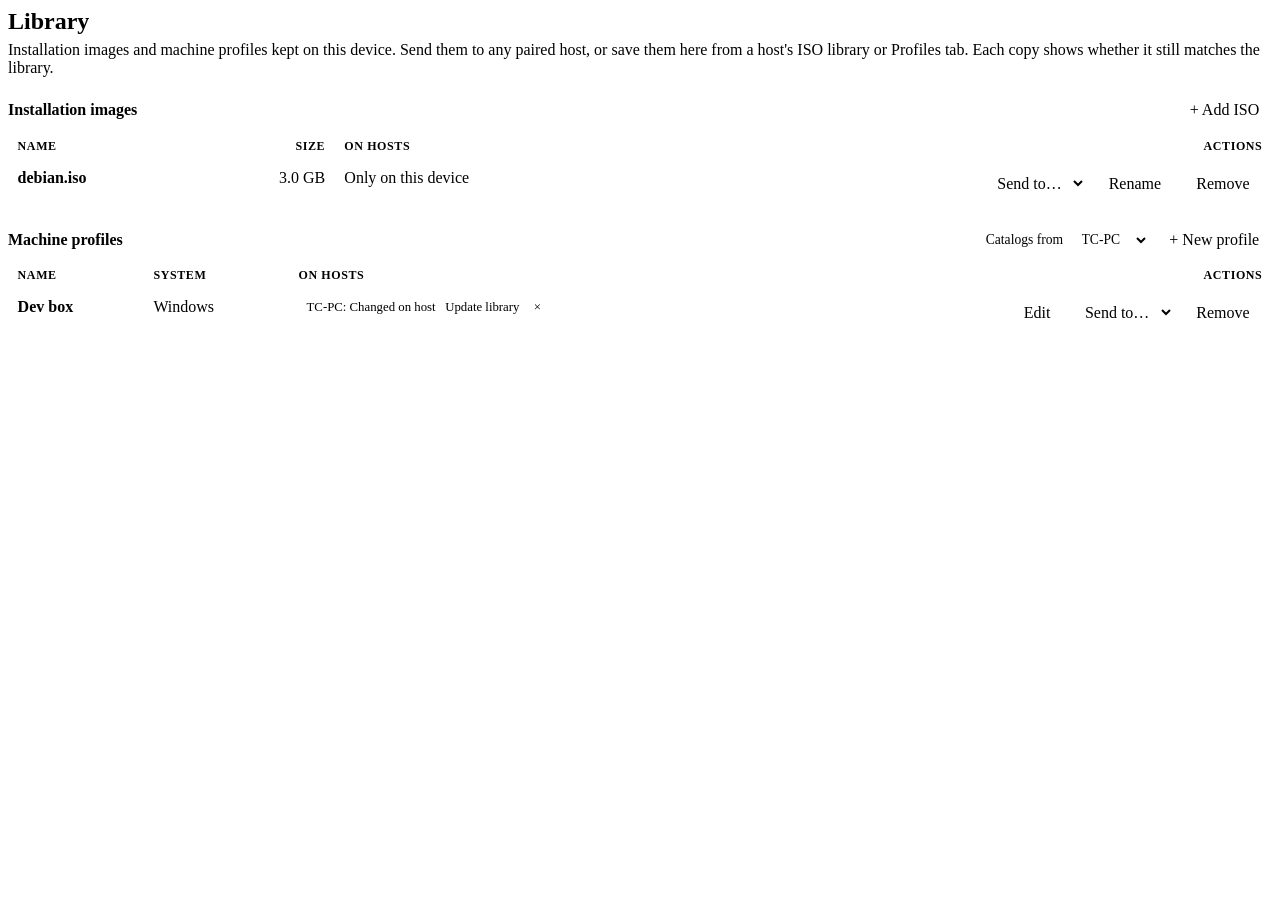
Test case: Library › makes a new profile in the library with a host's catalogs
The width and height of the screenshot is (1280, 900).
Click the button "+ New profile" at point(1214, 240), box 1156,226 -> 1272,254
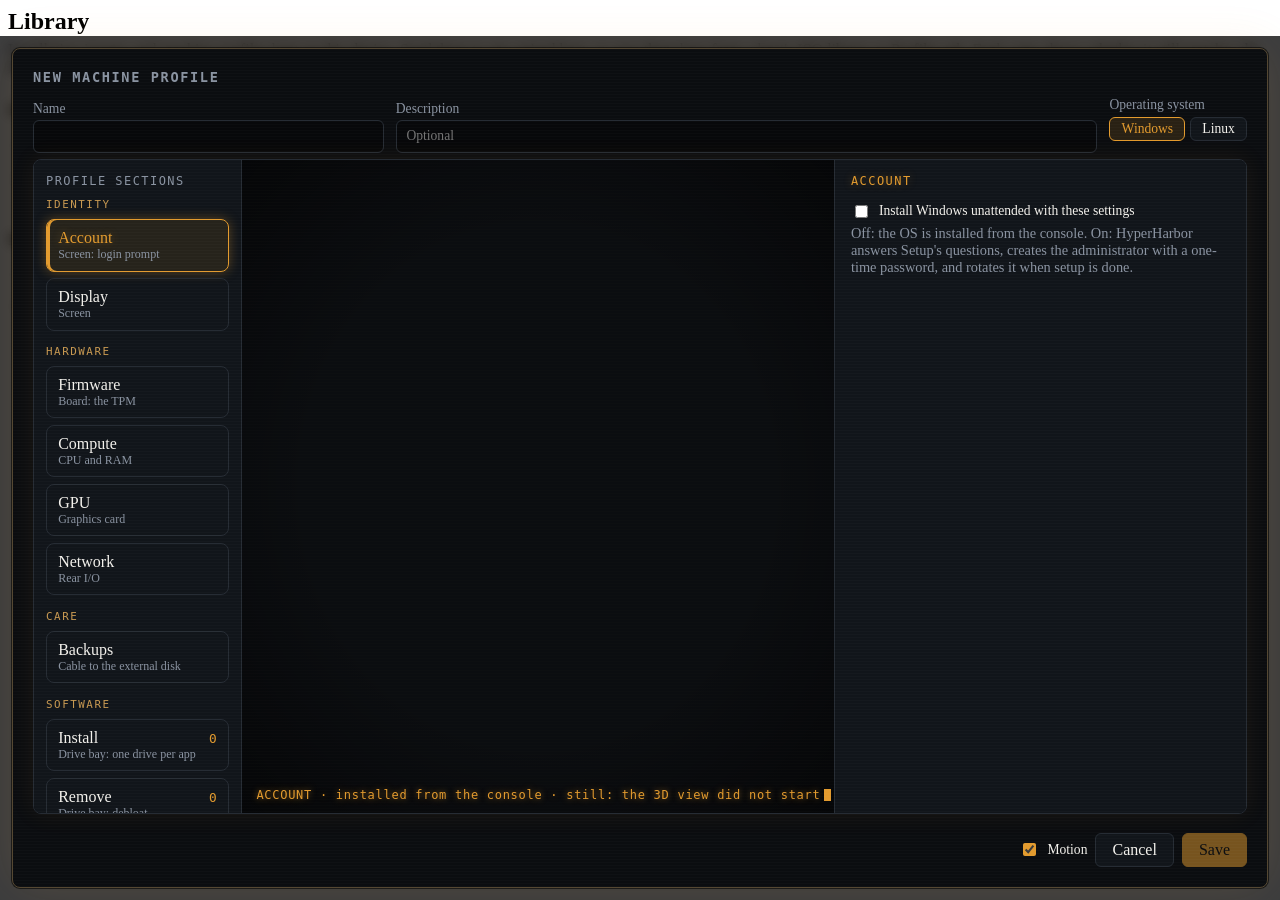
Expected: the dropdown labelled "Catalogs from" is shown, 1070,227 -> 1148,253
Expected: the heading "New machine profile" is shown, 33,69 -> 220,85
